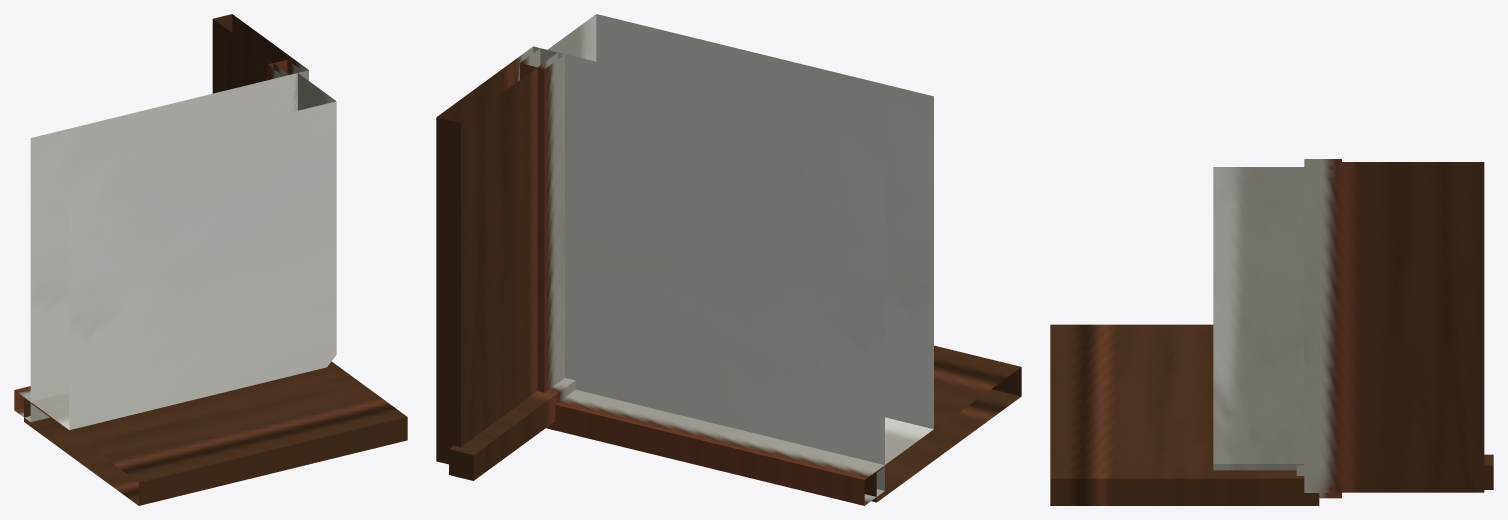
Rendered from pz_bed_bedding_01_large_modern_1_0.obj.
3 views of the same model, side by side, from view 1: azimuth 30°, elevation 25°; view 2: azimuth 150°, elevation 25°; view 3: azimuth 270°, elevation 25° (orthographic). The views are drawn at different scales.
Bounding box in the file's own units: 0.995 × 0.985 × 1.17.
1 material, 1 textured.
